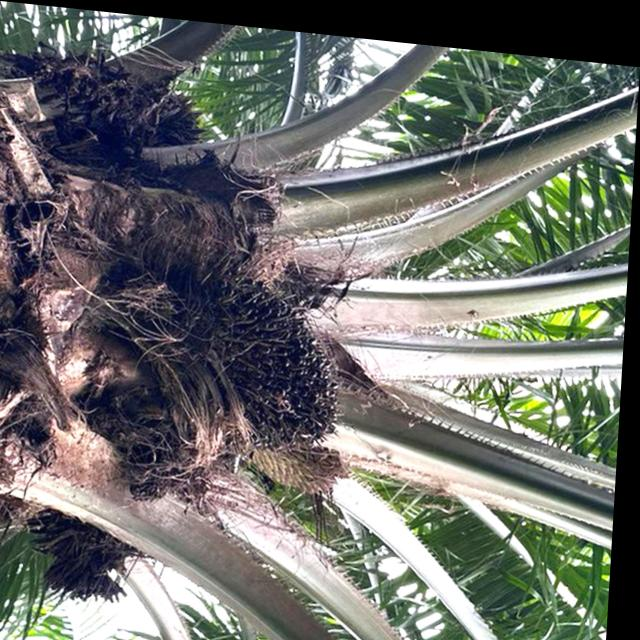unripe: (187, 253, 358, 458)
